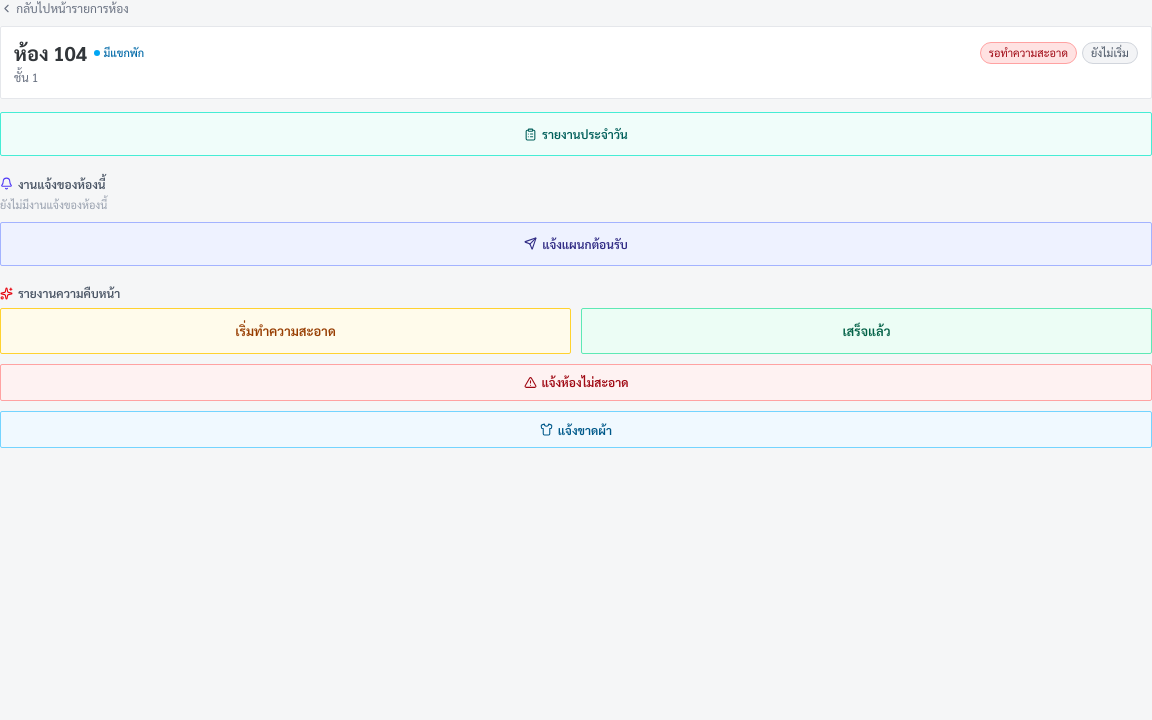
แจ้งขาดผ้า — linen shortage › keeps the panel open and the counts intact when the report fails
Expected: the heading "ห้อง 104" is shown, [14, 40, 87, 66]
Click the button "แจ้งขาดผ้า" at (576, 430), box [0, 411, 1151, 448]
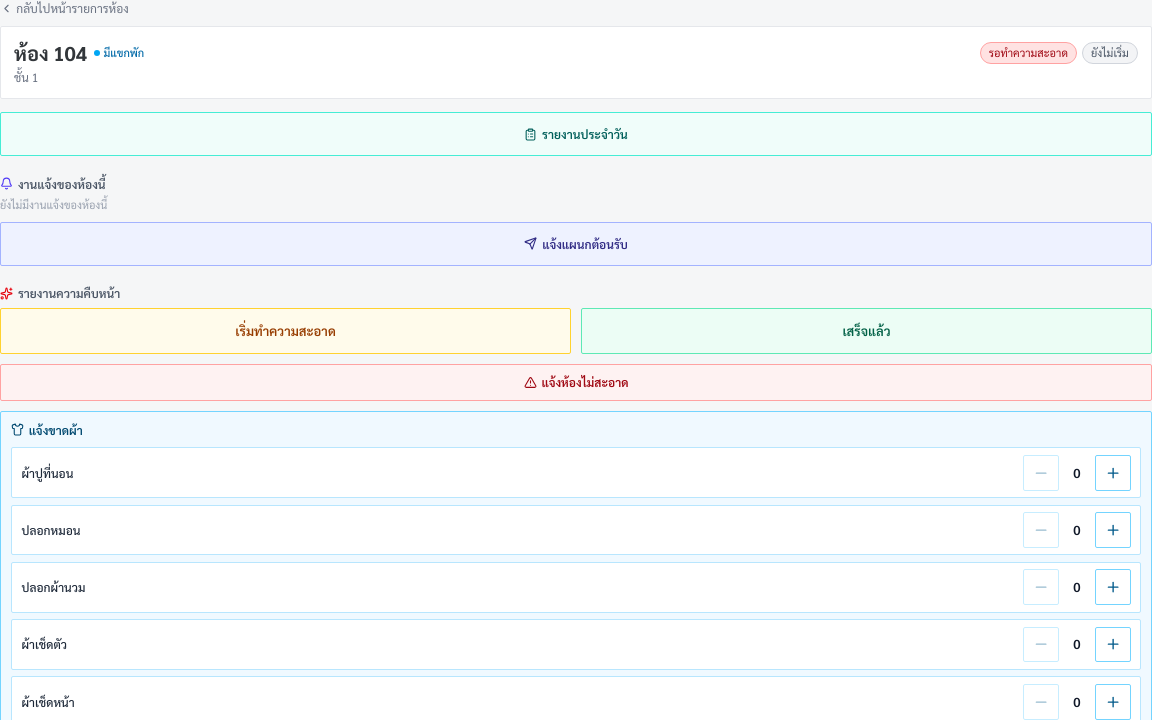
Click the button named "เพิ่ม ผ้าเช็ดหน้า" at (1113, 702), box [1095, 684, 1131, 719]
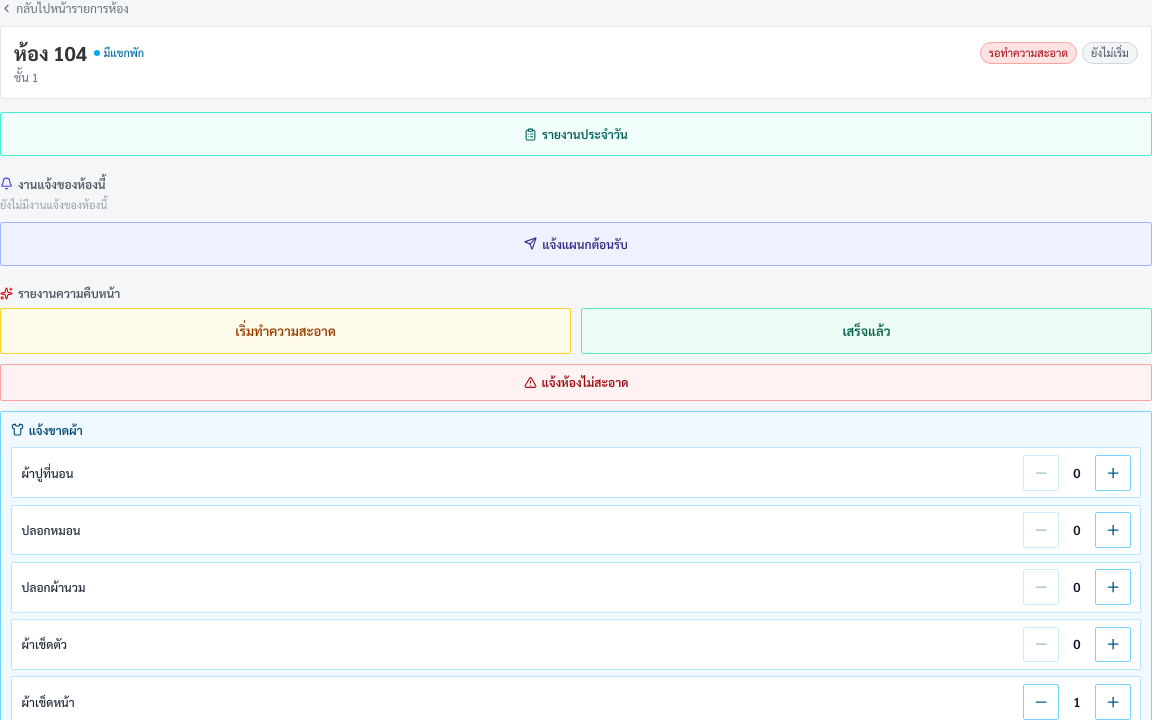
Click the button named "เพิ่ม ผ้าเช็ดหน้า" at (1113, 702), box [1095, 684, 1131, 719]
(page scrolled)
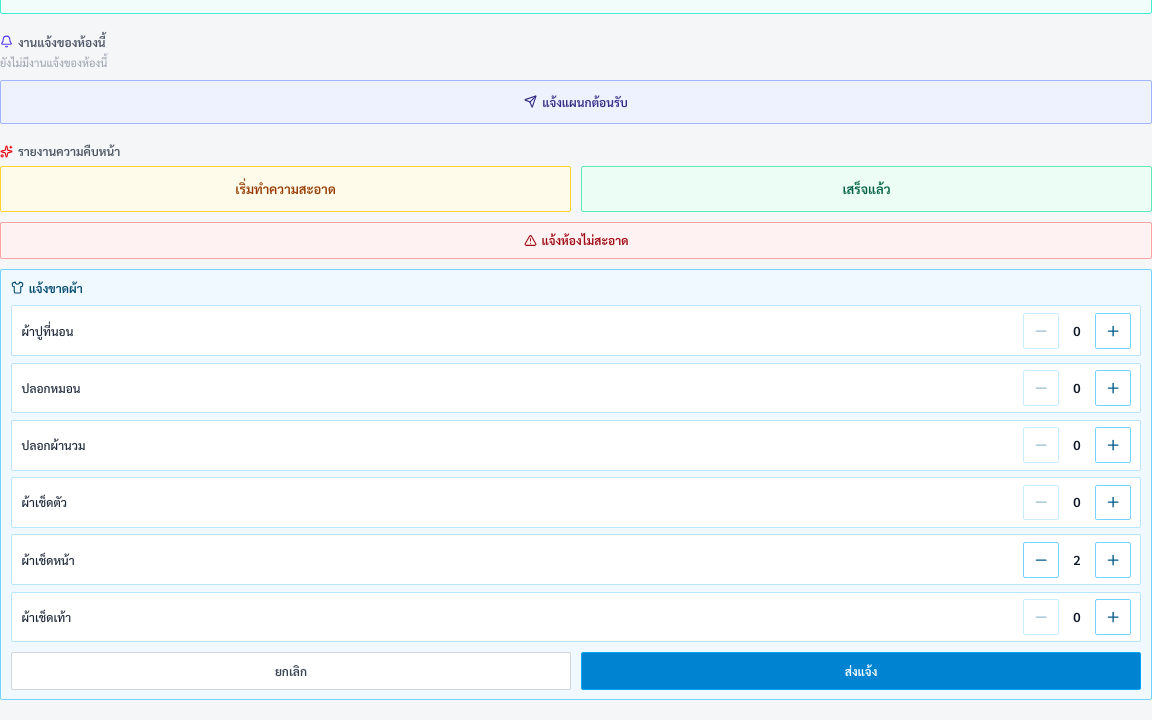
Click the button "ส่งแจ้ง" at (861, 671), box [581, 652, 1141, 690]
(page scrolled)
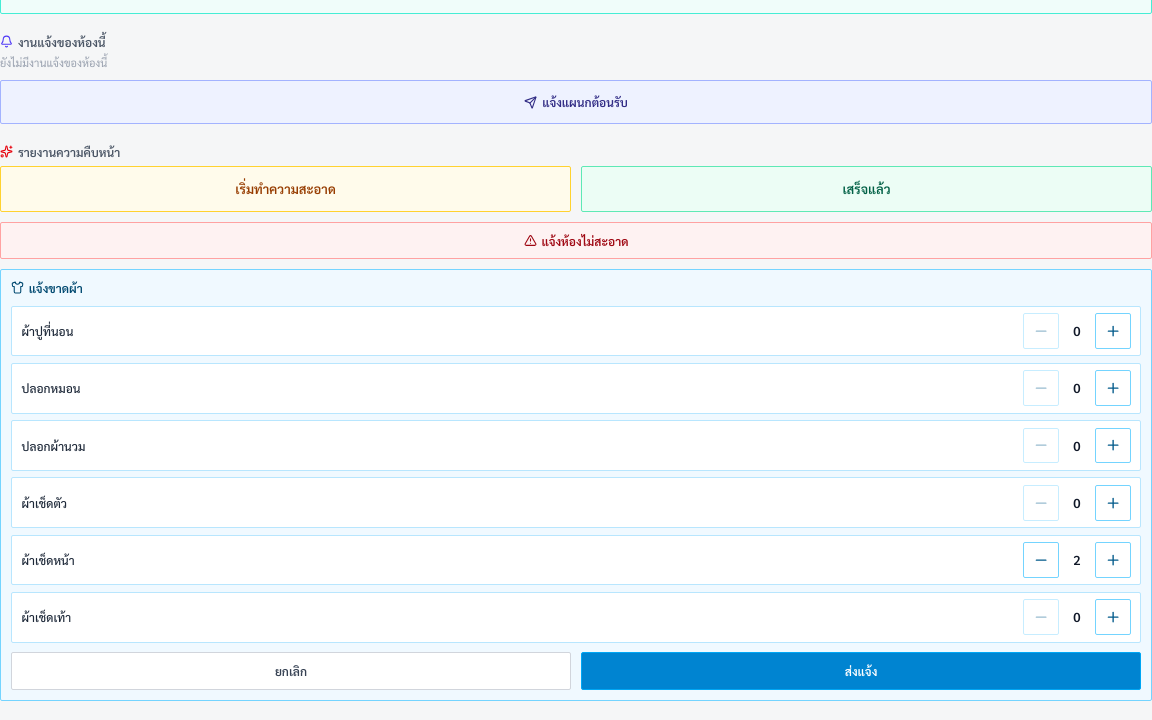
Expected: the text "บันทึกแล้ว: แจ้งขาดผ้า" is not shown
Result: the button "ส่งแจ้ง" is shown
Click the button "ส่งแจ้ง" at (861, 671), box [581, 652, 1141, 690]
(page scrolled)
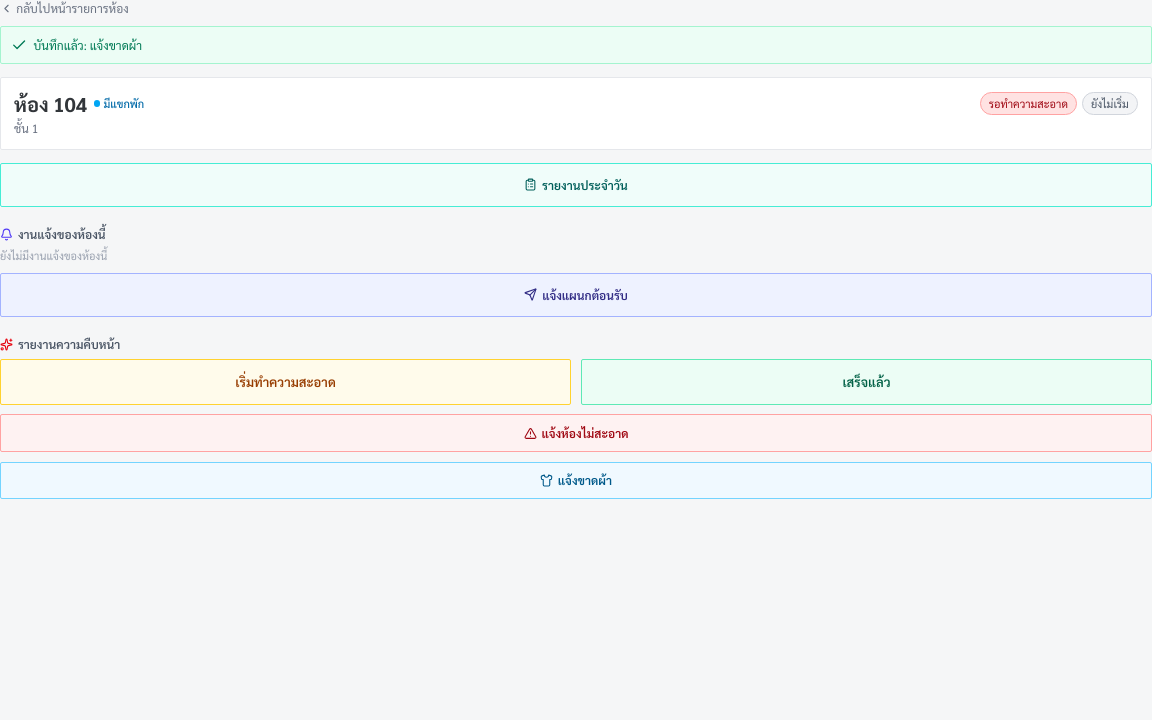
Result: the text "บันทึกแล้ว: แจ้งขาดผ้า" is shown at [34, 37, 142, 53]
